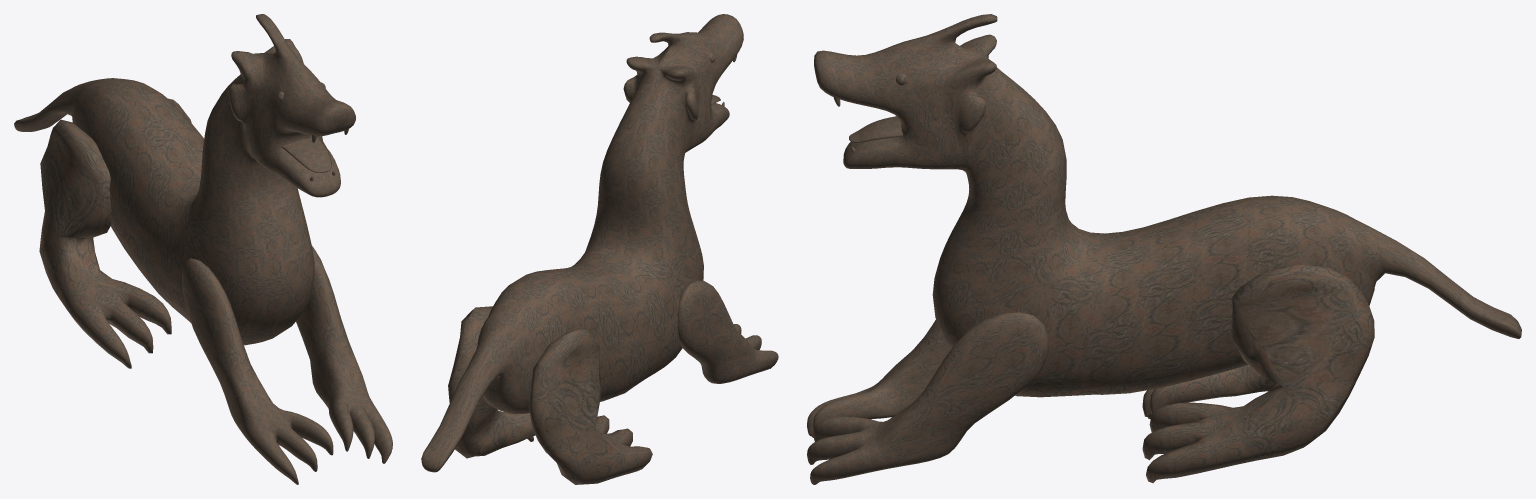
The model's file is 汉代镇墓兽.FBX.
3 renders of one model, left to right at view 1: azimuth 30°, elevation 25°; view 2: azimuth 150°, elevation 25°; view 3: azimuth 270°, elevation 25°, orthographic. The views are drawn at different scales.
Visible parts, largest first — view 1: 对象003, 对象004; view 2: 对象003, 对象004; view 3: 对象003, 对象004.
Boxes of the visible parts, box(x1,y1,x2,y2) form: 对象003: box(14, 14, 392, 484); 对象004: box(39, 98, 191, 368); 对象003: box(421, 14, 778, 472); 对象004: box(448, 306, 652, 484); 对象003: box(807, 14, 1521, 484); 对象004: box(1142, 264, 1374, 483).
Bounding box in the file's own units: 21.2 × 50.58 × 73.47.
